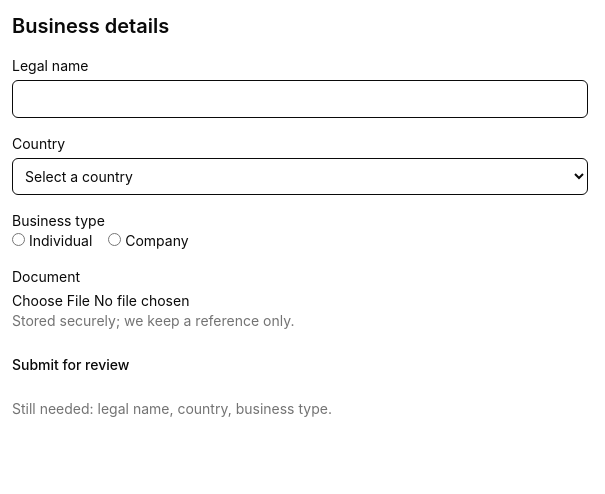
Scenario: WP-X.5 focus on error and on open › KYB: the submit button stays reachable by keyboard and points at the first problem
The image size is (605, 494).
Click the submit button.
click(71, 365)  # box [12,347,129,383]
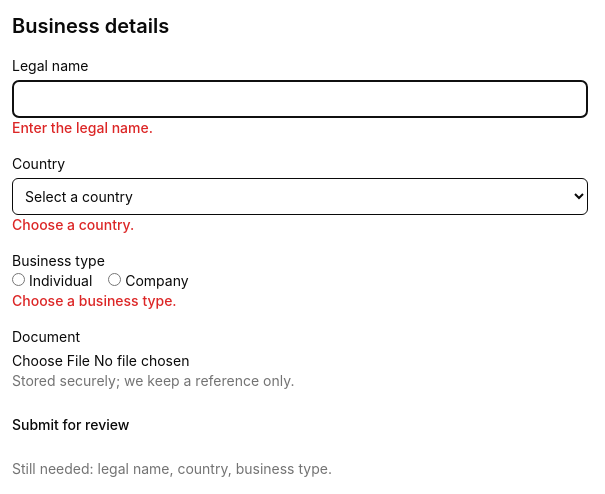
Now the message "Enter the legal name." is shown, box [12,119,153,136]
